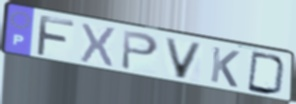D: (245, 50, 288, 97)
F: (34, 13, 77, 58)
K: (208, 45, 241, 90)
P: (120, 28, 161, 72)
V: (163, 36, 206, 81)
X: (78, 21, 118, 69)
